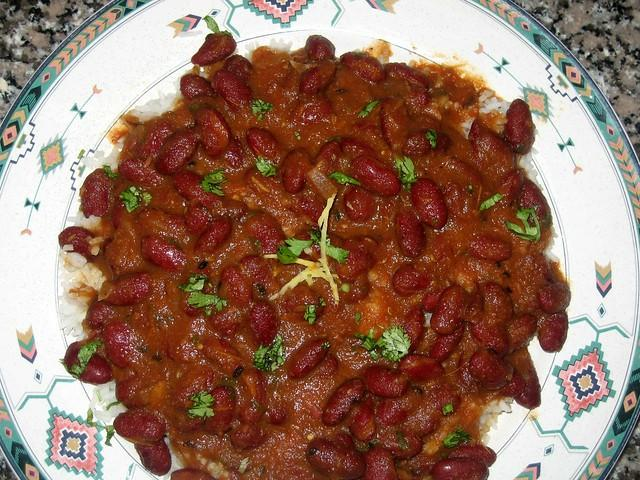RajmaCurry: (72, 30, 565, 480)
